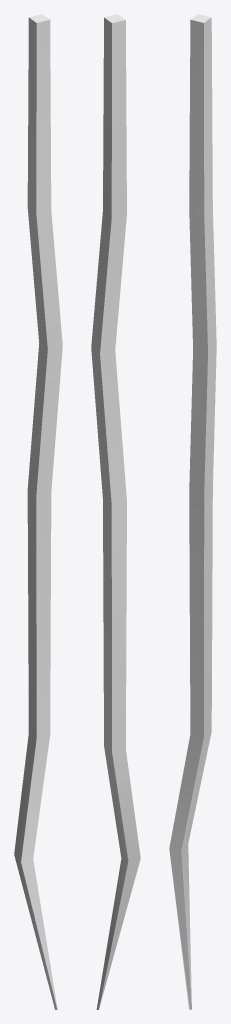
File: SM_Tree_Vines_02.glb
3 views of the same model, side by side, from view 1: azimuth 30°, elevation 25°; view 2: azimuth 210°, elevation 25°; view 3: azimuth 330°, elevation 25° (orthographic). The views are drawn at different scales.
Visible parts, largest first — view 1: SM_Tree_Vines_02; view 2: SM_Tree_Vines_02; view 3: SM_Tree_Vines_02.
Boxes of the visible parts, box(x1,y1,x2,y2) form: SM_Tree_Vines_02: box(14, 14, 62, 1009); SM_Tree_Vines_02: box(91, 14, 140, 1009); SM_Tree_Vines_02: box(169, 14, 216, 1009).
Bounding box in the file's own units: 0.131 × 3.05 × 0.1062.
Materials: 1 (1 with a texture image).
